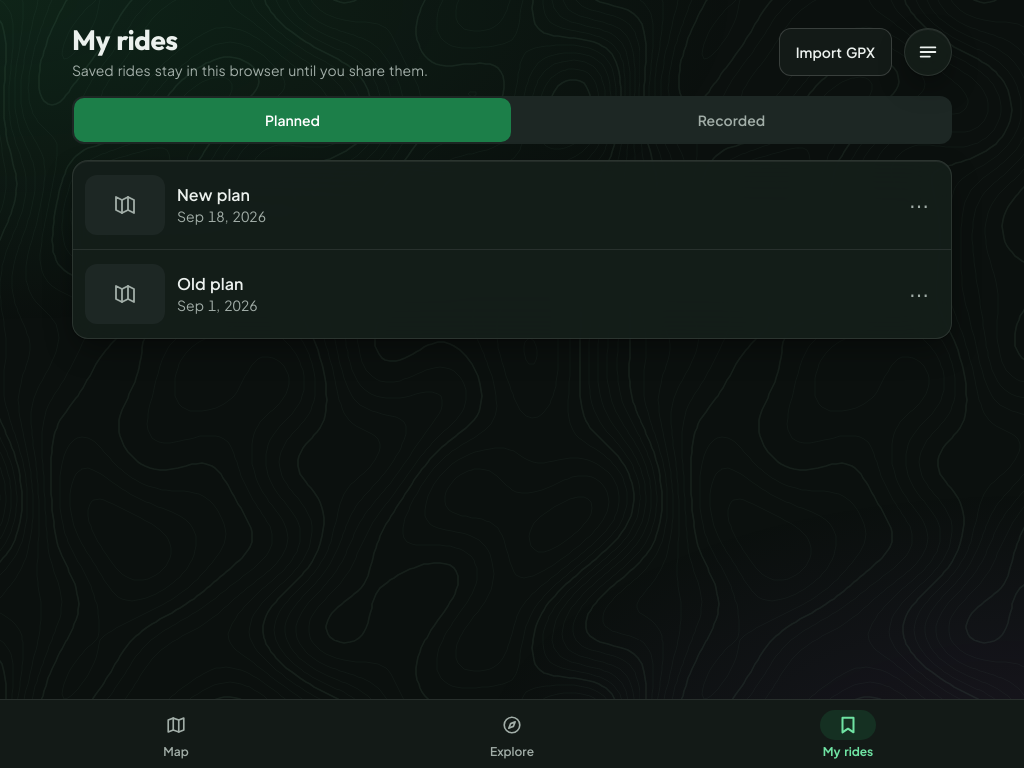
Test case: RidesLibrary › splits Planned and Recorded into two newest-first segments
This screenshot has width=1024, height=768.
Expected: the button with aria-label "Open New plan" is shown, [85, 170, 887, 242]
Click the button "Recorded". click: (732, 120)
box: [513, 98, 950, 142]
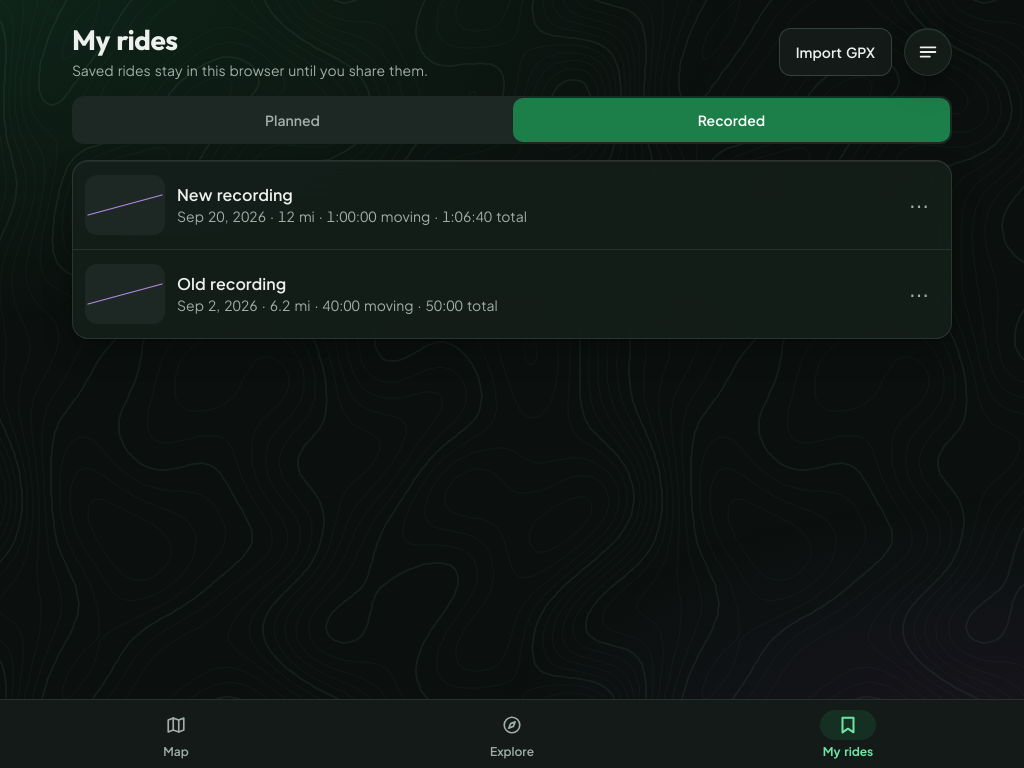
Expected: the button with aria-label "Open New recording" is shown, [85, 170, 887, 242]
